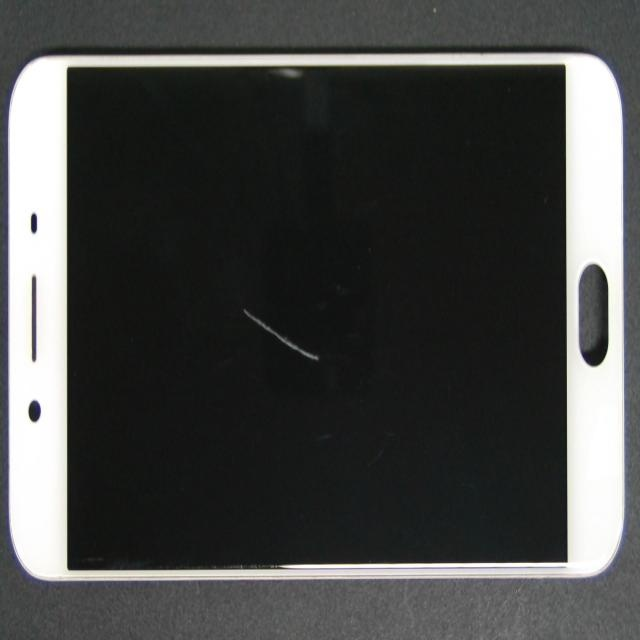scratch: (206, 216, 450, 503)
